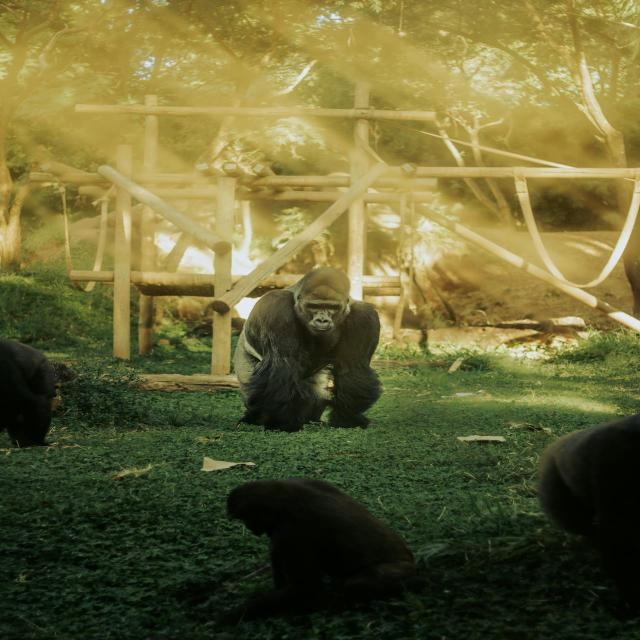Gorilla: (232, 265, 384, 431)
